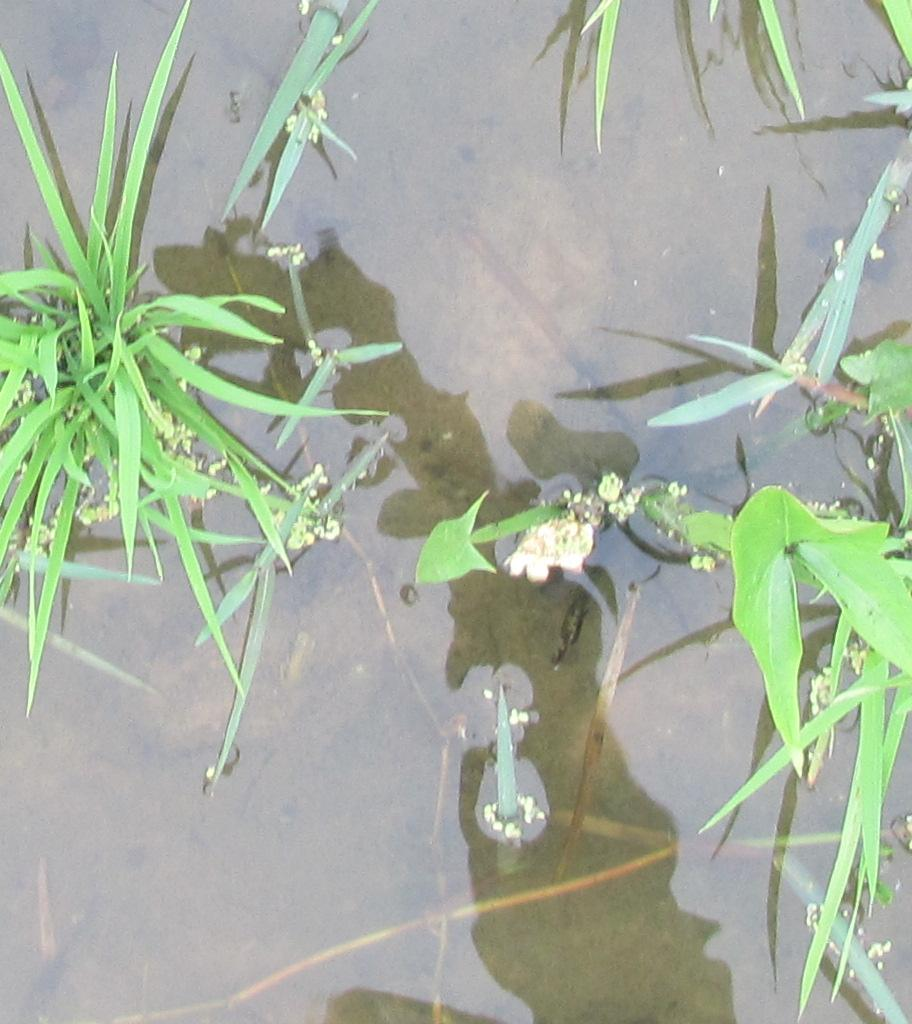Weed: (722, 480, 912, 768), (411, 472, 719, 592)
